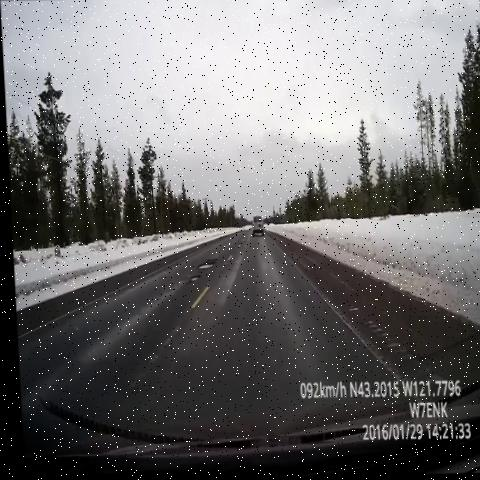pothole: (190, 254, 220, 274), (179, 274, 201, 286)
